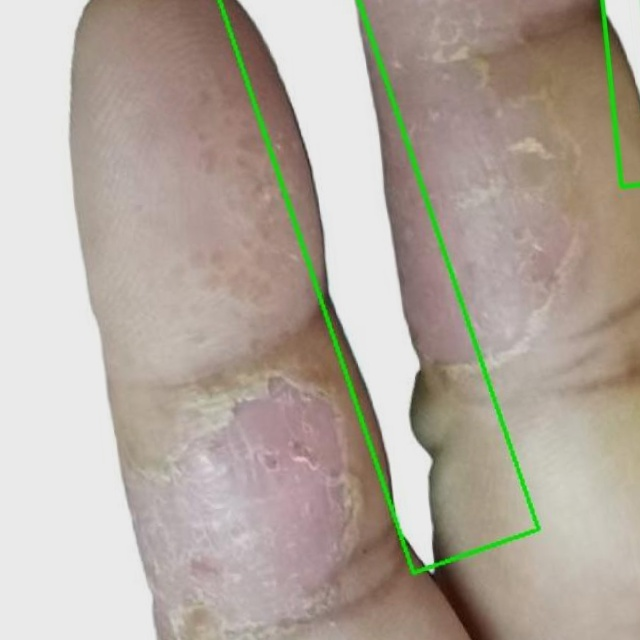Eczema: (220, 0, 538, 571)
